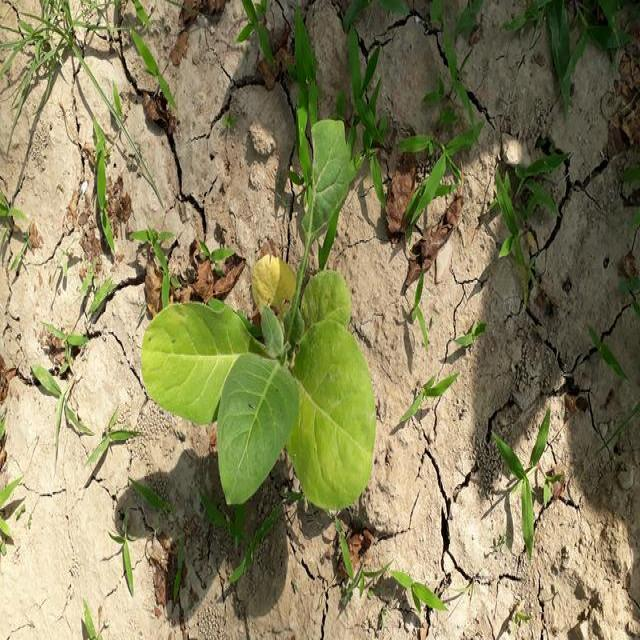crop: (146, 119, 384, 510)
